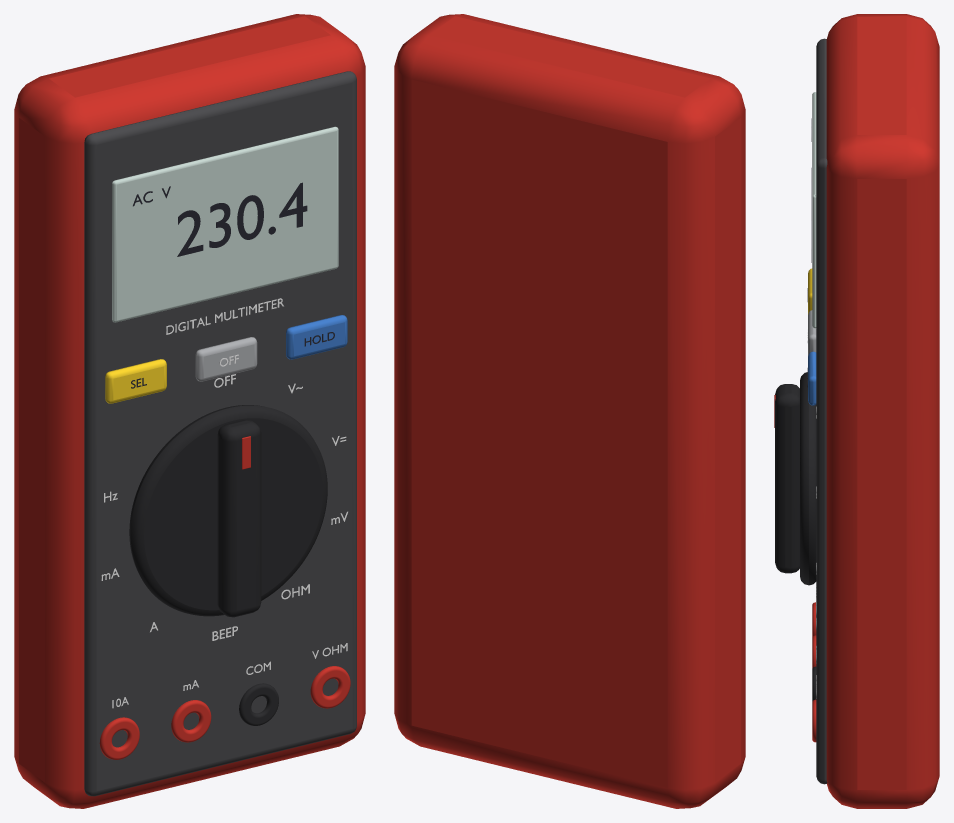
File: multimeter.glb
The picture shows the model from 3 angles, left to right: view 1: azimuth 30°, elevation 25°; view 2: azimuth 150°, elevation 25°; view 3: azimuth 270°, elevation 25°; orthographic projection. The views are drawn at different scales.
Visible parts, largest first — view 1: body; view 2: body; view 3: body.
Boxes of the visible parts, x1,y1,x2,y2 form: body: [14, 14, 365, 808]; body: [394, 14, 745, 808]; body: [774, 14, 939, 808].
Bounding box in the file's own units: 0.084 × 0.18 × 0.0402.
